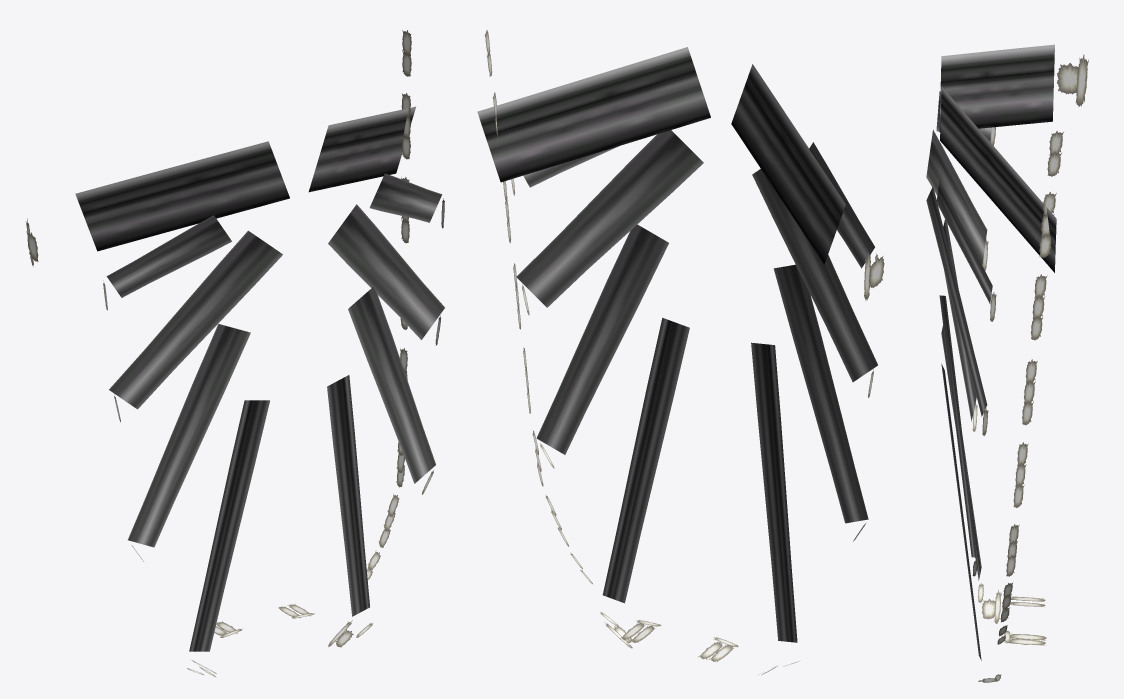
File: light_eff_set.dae
3 renders of one model, left to right at view 1: azimuth 30°, elevation 25°; view 2: azimuth 150°, elevation 25°; view 3: azimuth 270°, elevation 25°, orthographic. The views are drawn at different scales.
Parts seen in each view (by area): view 1: light_effShape (×2); view 2: light_effShape (×2); view 3: light_effShape (×3).
Boxes of the visible parts, x1,y1,x2,y2 form: light_effShape (×2): (75, 30, 444, 677); light_effShape (×2): (477, 30, 877, 674); light_effShape (×3): (926, 44, 1088, 682).
Bounding box in the file's own units: 1474 × 574 × 2168.
3 materials, 3 textured.
